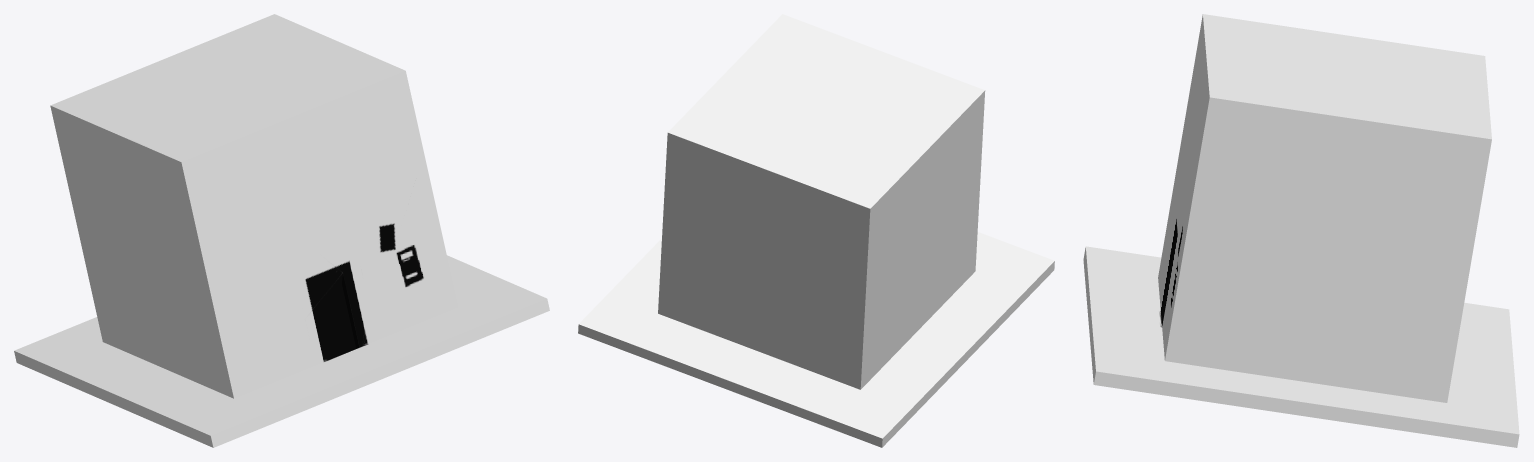
Rendered from BuildingA.fbx.
3 views of the same model, side by side, from view 1: azimuth 30°, elevation 25°; view 2: azimuth 150°, elevation 25°; view 3: azimuth 270°, elevation 25° (orthographic). The views are drawn at different scales.
Visible parts, largest first — view 1: node_id16, node_id26; view 2: node_id16, node_id26; view 3: node_id16, node_id26.
Boxes of the visible parts, x1,y1,x2,y2 form: node_id16: (50,14,458,398); node_id26: (14,255,549,447); node_id16: (658,14,985,389); node_id26: (578,232,1054,447); node_id16: (1158,14,1491,402); node_id26: (1083,246,1519,447).
Bounding box in the file's own units: 0.5097 × 0.4707 × 0.5202.
Materials: 2 (2 with a texture image).
